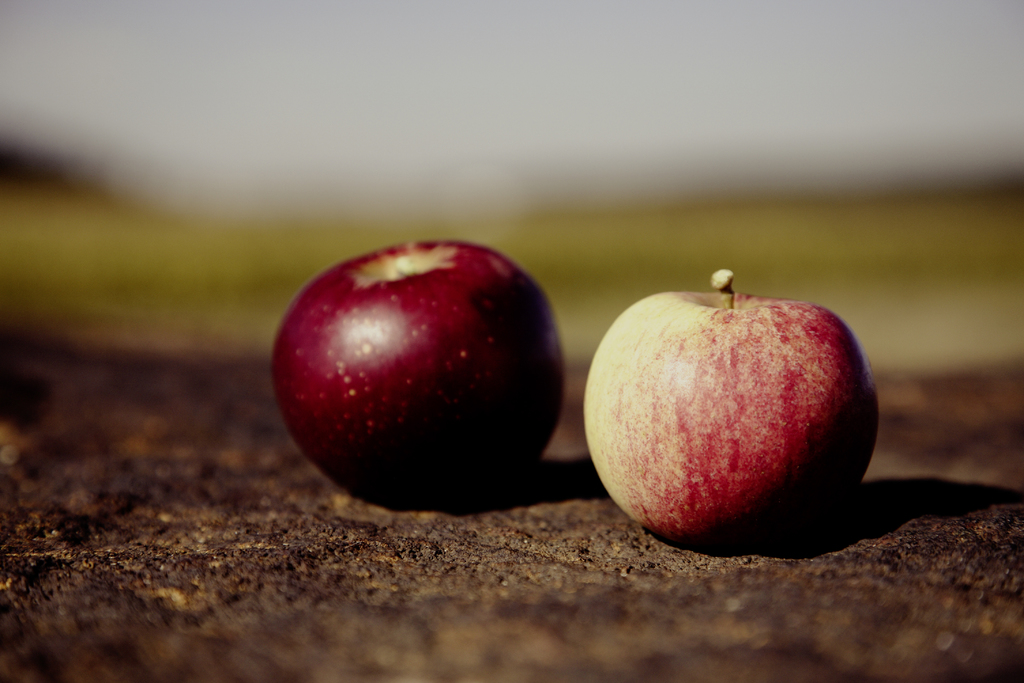Apple: (272, 237, 568, 513), (599, 263, 865, 549)
